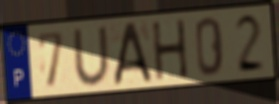0: (194, 14, 225, 79)
2: (231, 13, 266, 75)
7: (37, 30, 66, 90)
A: (111, 20, 155, 89)
H: (149, 17, 190, 83)
U: (70, 24, 113, 88)
